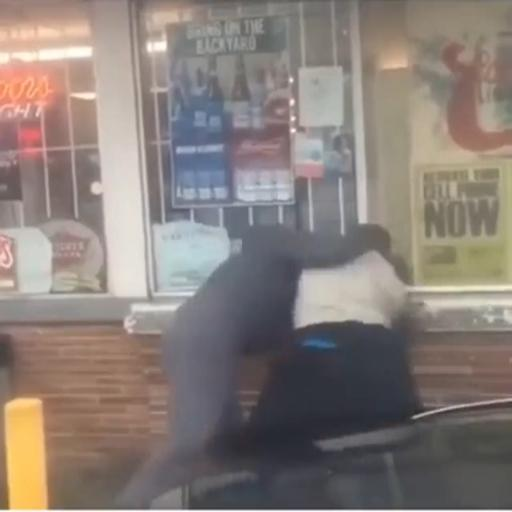violencia: (143, 203, 429, 495)
